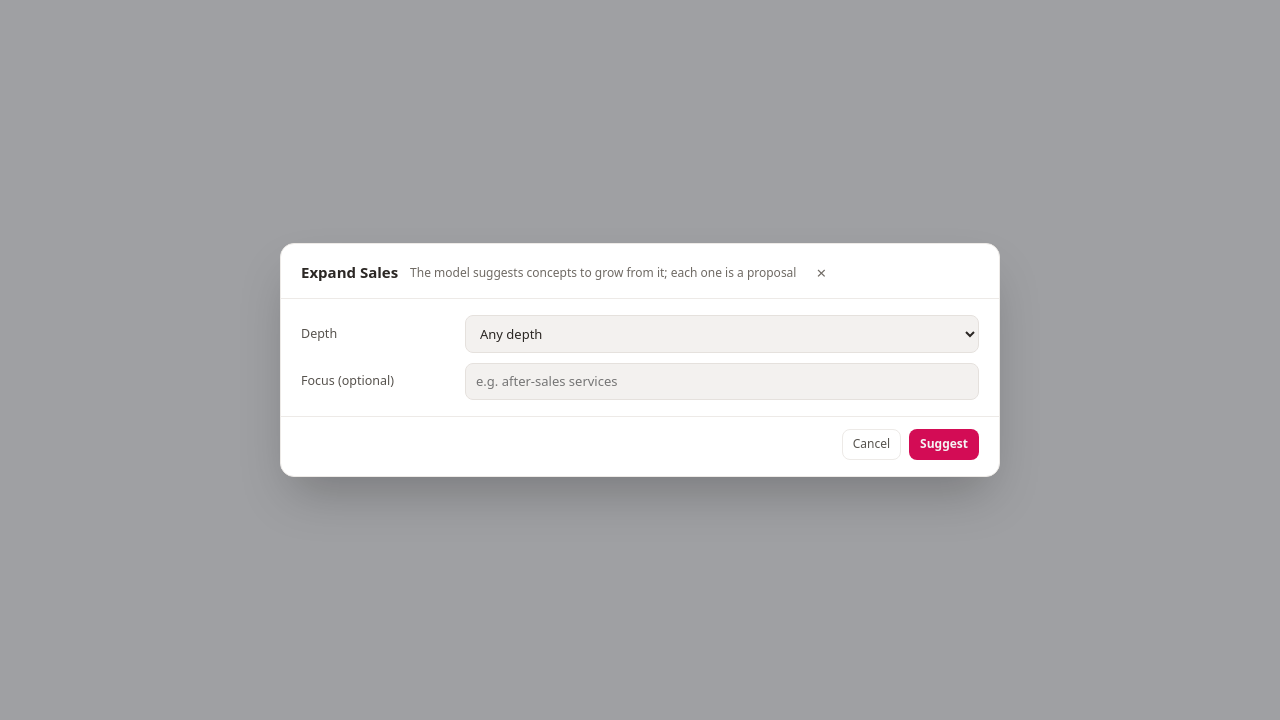
Test: Expand › lays the suggestions out as a full-width list with aligned label, link and confidence columns
This screenshot has width=1280, height=720.
Click the button "Suggest": point(944, 445) [909,430,979,460]
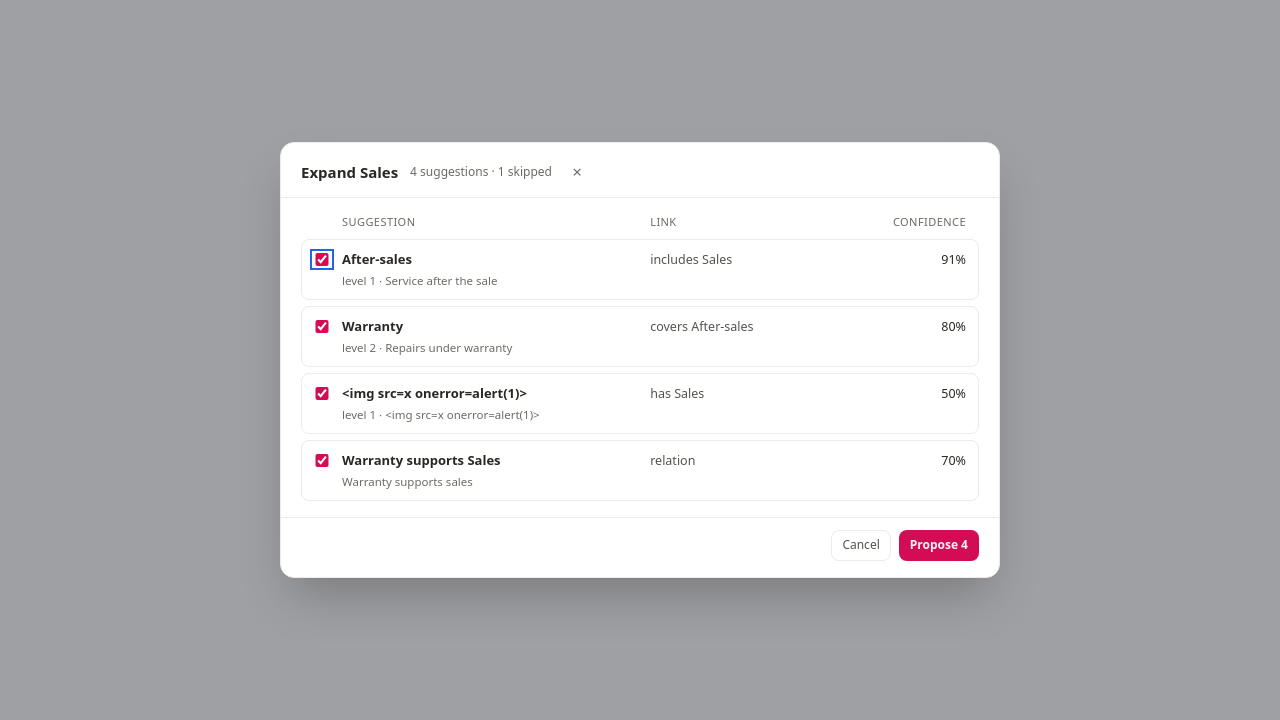
expect the text with class "ex-note" reads "level 1 · Service after the sale": met, box [342,273,497,288]
expect the text with class "ex-note" reads "Warranty supports sales": met, box [342,474,473,489]
